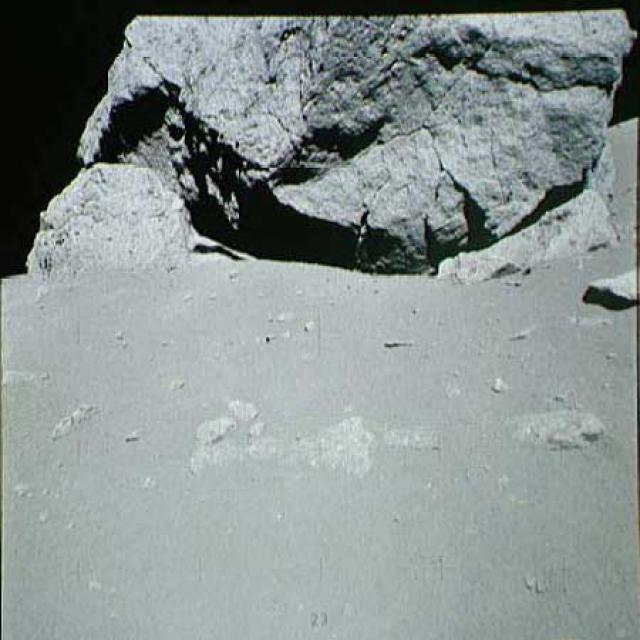rock: (80, 12, 625, 282), (28, 167, 194, 278), (579, 265, 638, 310)
